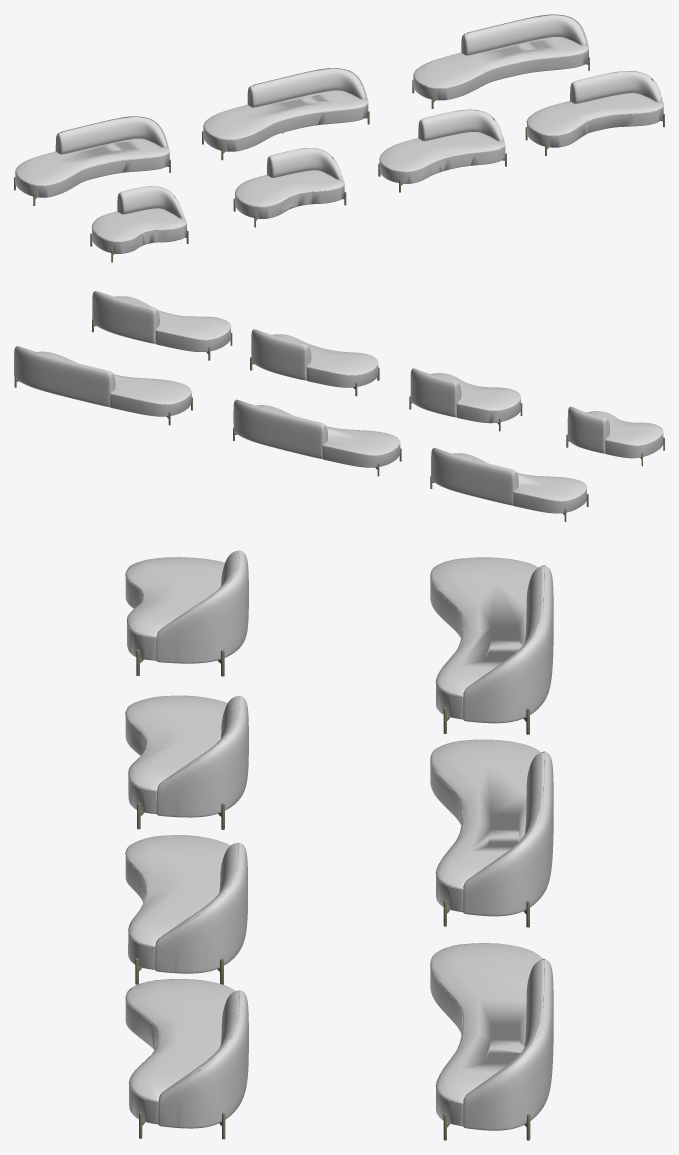
File: sofa-thomas.glb
3 views of the same model, one above another, from view 1: azimuth 30°, elevation 25°; view 2: azimuth 150°, elevation 25°; view 3: azimuth 270°, elevation 25° (orthographic). The views are drawn at different scales.
Visible parts, largest first — view 1: 3DGeom-10 (×3), 3DGeom-23 (×4), 3DGeom-71, 3DGeom-13, 3DGeom-84, 3DGeom-24, 3DGeom-58, 3DGeom-47, 3DGeom-35; view 2: 3DGeom-1 (×3), 3DGeom-14 (×4), 3DGeom-71, 3DGeom-13, 3DGeom-24, 3DGeom-58, 3DGeom-84, 3DGeom-47, 3DGeom-35; view 3: 3DGeom-14 (×4), 3DGeom-1 (×3), 3DGeom-71, 3DGeom-13, 3DGeom-84, 3DGeom-24, 3DGeom-58, 3DGeom-47, 3DGeom-35, 3DGeom-10 (×3), 3DGeom-23 (×2).
Boxes of the visible parts, <box> form: 3DGeom-10 (×3): <box>57,14,586,154</box>; 3DGeom-23 (×4): <box>119,71,661,218</box>; 3DGeom-71: <box>413,36,588,100</box>; 3DGeom-13: <box>203,90,368,151</box>; 3DGeom-84: <box>15,138,169,197</box>; 3DGeom-24: <box>526,93,663,147</box>; 3DGeom-58: <box>379,132,505,183</box>; 3DGeom-47: <box>235,170,344,218</box>; 3DGeom-35: <box>91,208,186,253</box>; 3DGeom-1 (×3): <box>14,346,515,505</box>; 3DGeom-14 (×4): <box>92,291,606,453</box>; 3DGeom-71: <box>37,351,191,416</box>; 3DGeom-13: <box>256,405,400,467</box>; 3DGeom-24: <box>114,296,231,351</box>; 3DGeom-58: <box>272,334,378,387</box>; 3DGeom-84: <box>453,453,586,513</box>; 3DGeom-47: <box>430,373,520,423</box>; 3DGeom-35: <box>587,411,663,458</box>; 3DGeom-14 (×4): <box>155,550,248,1128</box>; 3DGeom-1 (×3): <box>463,565,553,1130</box>; 3DGeom-71: <box>430,943,542,1126</box>; 3DGeom-13: <box>430,739,540,912</box>; 3DGeom-84: <box>430,557,538,719</box>; 3DGeom-24: <box>125,979,235,1124</box>; 3DGeom-58: <box>125,835,230,969</box>; 3DGeom-47: <box>125,695,227,814</box>; 3DGeom-35: <box>125,557,224,660</box>; 3DGeom-10 (×3): <box>465,565,544,1096</box>; 3DGeom-23 (×2): <box>156,843,239,1098</box>.
Size of the model in its own units: 10.09 by 0.74 by 3.33.
